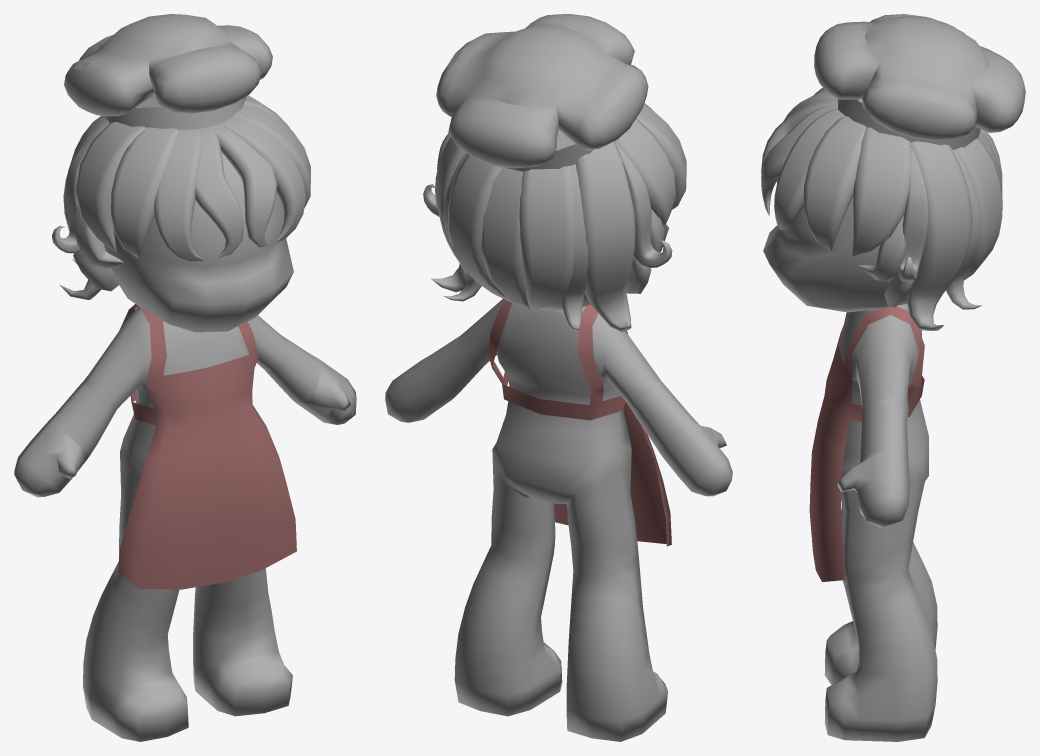
File: kKitchen_PlayerModel_cCaskey.fbx
3 views of the same model, side by side, from view 1: azimuth 30°, elevation 25°; view 2: azimuth 150°, elevation 25°; view 3: azimuth 270°, elevation 25° (orthographic).
Visible parts, largest first — view 1: BODY, apron, pCube1, hairstrand05, hairstrand04, hairstrand11, hairstrand03, hairstrand13, hairstrand02, pCylinder1, hairstrand01, hairstrand15 (+2 smaller); view 2: BODY, pCube1, apron, hairstrand10, hairstrand09, hairstrand12, hairstrand08, hairstrand11, hairstrand15, hairstrand18, hairstrand07, hairstrand05 (+2 smaller); view 3: BODY, pCube1, apron, hairstrand07, hairstrand06, hairstrand01, hairstrand08, hairstrand02, hairstrand14, hairstrand03, hairstrand17, pCylinder1 (+2 smaller).
Part boxes in pixels (<box>): BODY: <box>14,153,356,741</box>; apron: <box>118,304,296,589</box>; pCube1: <box>64,14,272,116</box>; hairstrand05: <box>111,127,178,257</box>; hairstrand04: <box>154,129,203,261</box>; hairstrand11: <box>75,122,146,252</box>; hairstrand03: <box>210,124,277,247</box>; hairstrand13: <box>194,126,243,257</box>; hairstrand02: <box>220,116,305,242</box>; pCylinder1: <box>101,97,246,129</box>; hairstrand01: <box>233,104,310,207</box>; hairstrand15: <box>52,127,105,253</box>; BODY: <box>385,224,732,741</box>; pCube1: <box>436,14,648,168</box>; apron: <box>488,299,671,546</box>; hairstrand10: <box>576,141,635,332</box>; hairstrand09: <box>519,166,574,308</box>; hairstrand12: <box>480,167,529,309</box>; hairstrand08: <box>447,154,519,305</box>; hairstrand11: <box>614,118,675,226</box>; hairstrand15: <box>615,142,672,267</box>; hairstrand18: <box>560,164,588,330</box>; hairstrand07: <box>431,137,467,292</box>; hairstrand05: <box>636,105,686,209</box>; BODY: <box>763,196,937,741</box>; pCube1: <box>814,14,1025,140</box>; apron: <box>809,306,924,581</box>; hairstrand07: <box>907,141,972,330</box>; hairstrand06: <box>852,127,911,256</box>; hairstrand01: <box>803,116,866,250</box>; hairstrand08: <box>955,138,1002,280</box>; hairstrand02: <box>774,108,845,229</box>; hairstrand14: <box>898,147,928,281</box>; hairstrand03: <box>761,103,837,216</box>; hairstrand17: <box>946,149,982,309</box>; pCylinder1: <box>838,98,980,149</box>.
Size of the model in its own units: 7.54 by 14.17 by 5.05.
